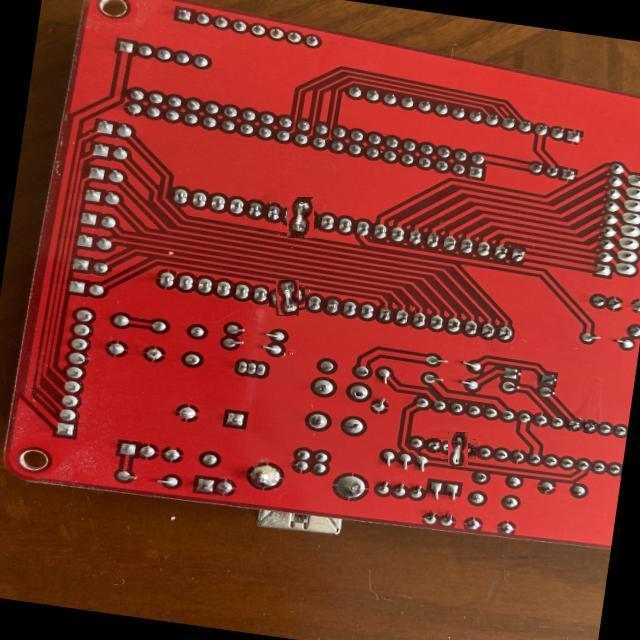damged: (283, 201, 318, 235), (272, 284, 302, 314), (445, 435, 472, 463)
